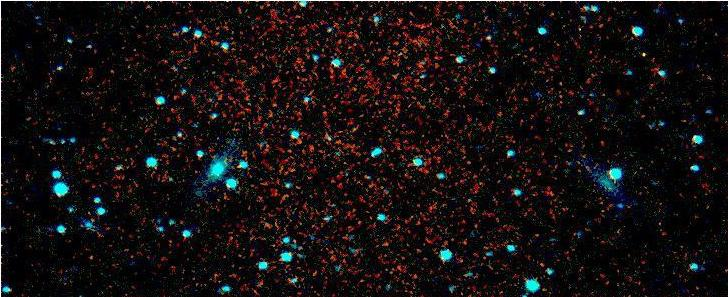star: (627, 34, 657, 64)
